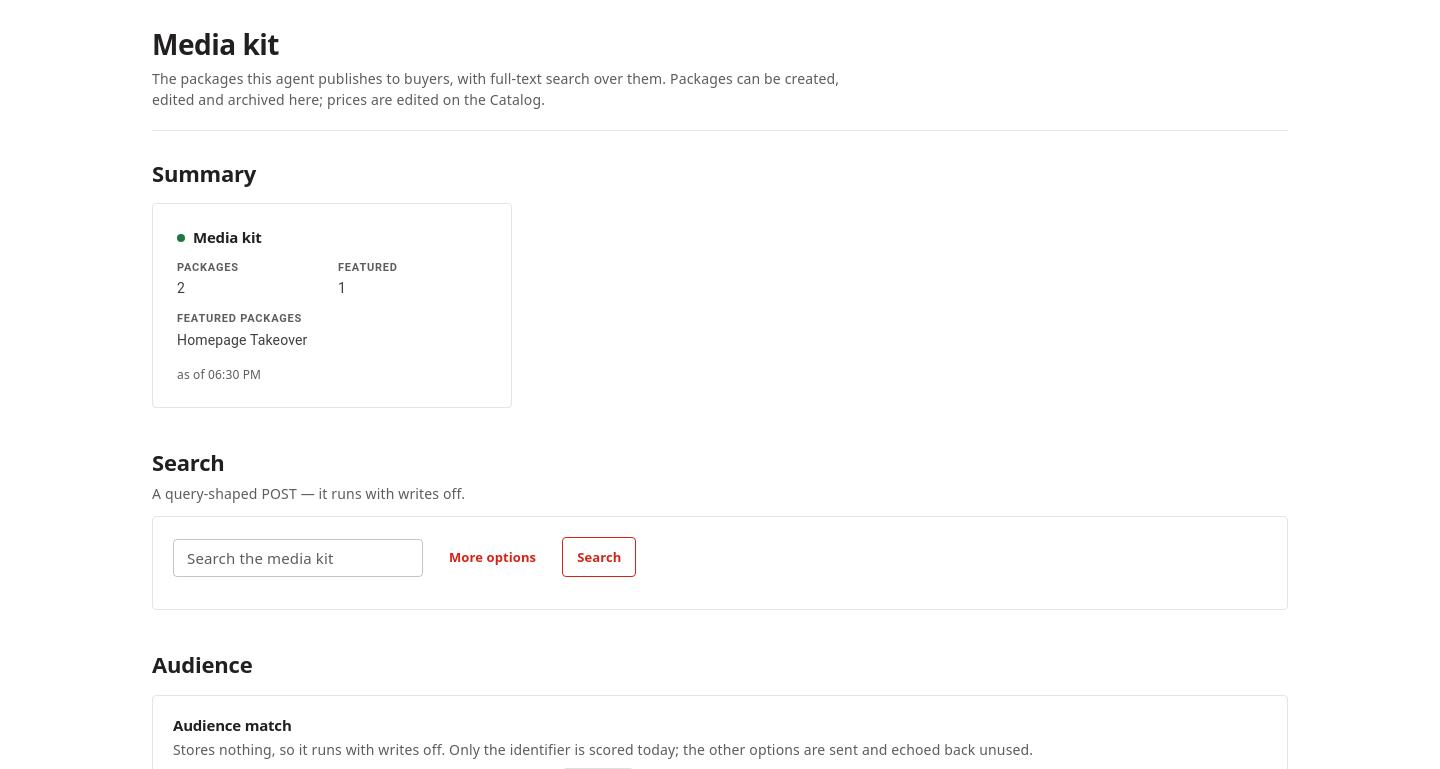
the media kit screen › shows a real empty state, not an error, when nothing matches
This screenshot has width=1440, height=769.
Type "nothing" into the field labelled "Search the media kit" at (298, 558), box [173,538,423,577]
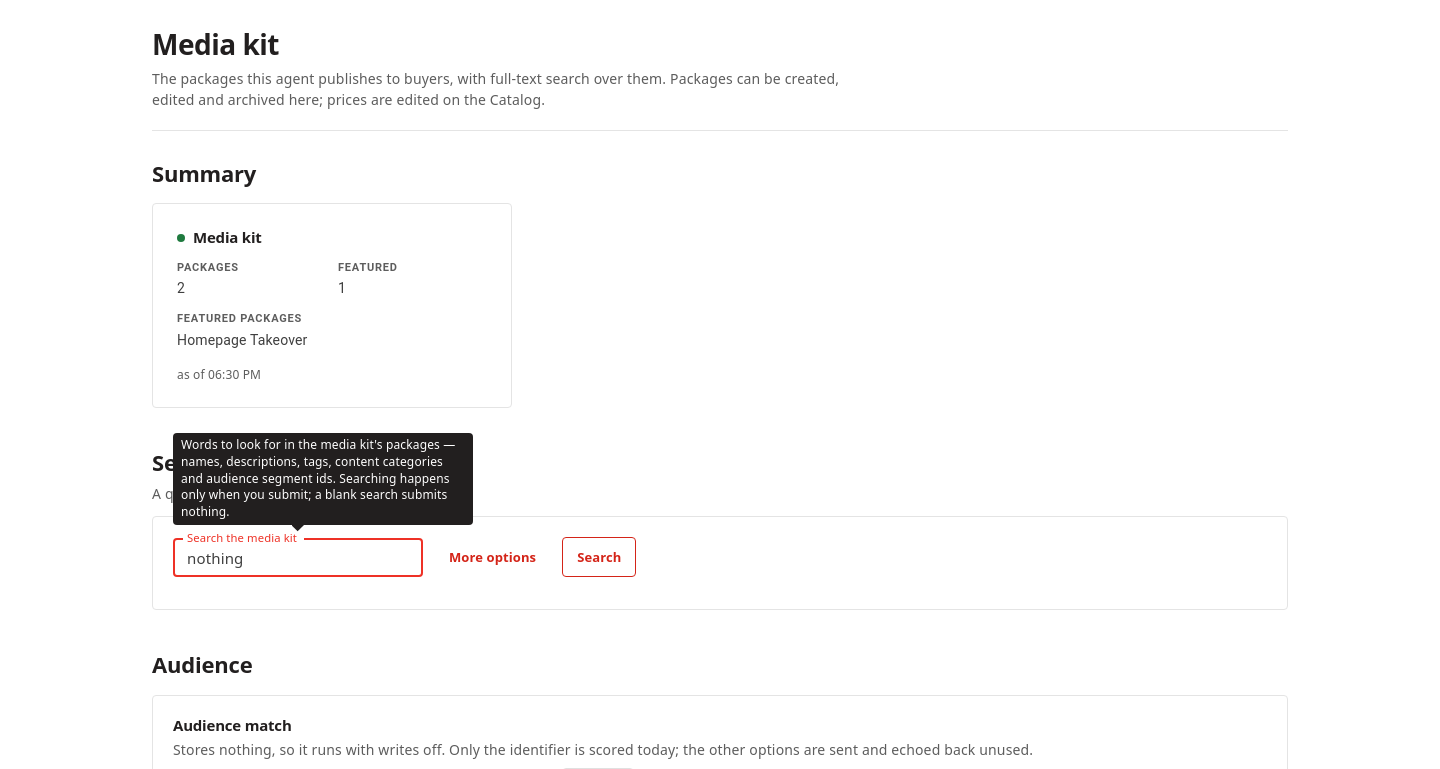
Click the button "Search" at (599, 557), box [562,537,636,577]
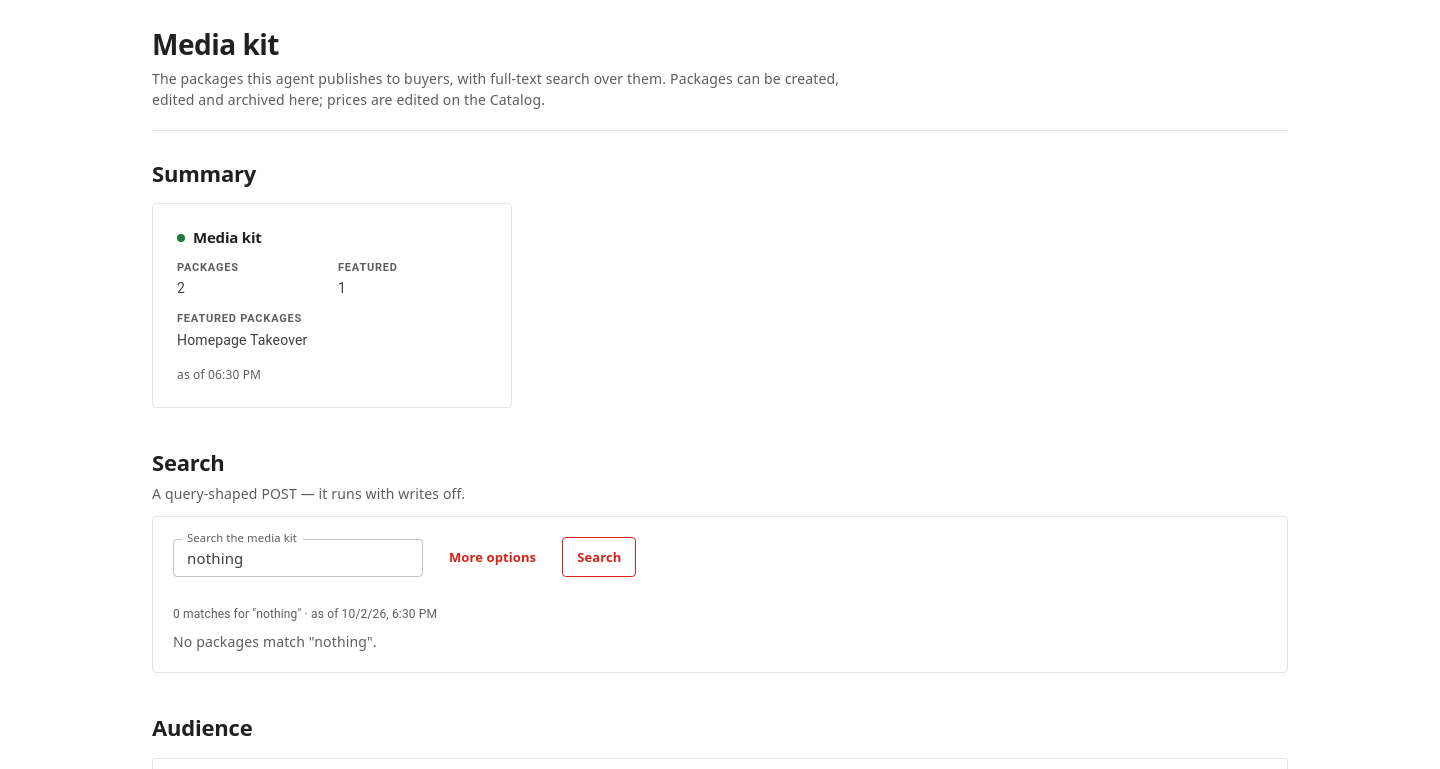
Expected: the text "No packages match \"nothing\"." is shown, [173,632,377,651]
